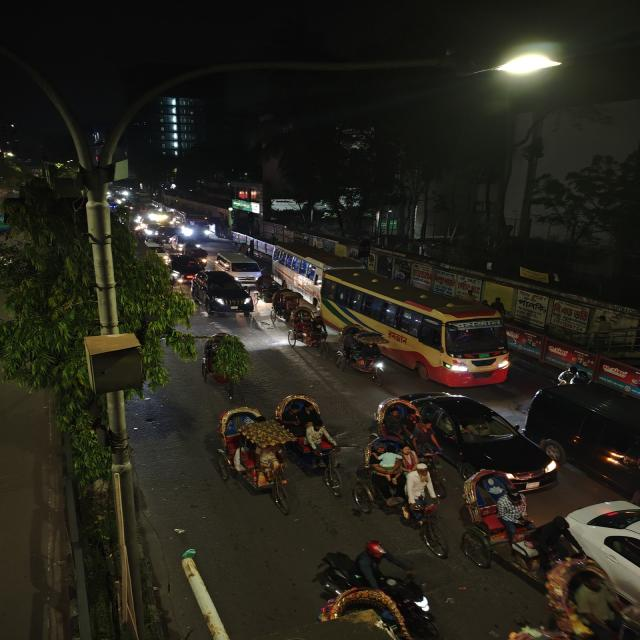bus: (323, 269, 513, 385), (270, 241, 360, 297), (171, 210, 215, 240)
car: (397, 389, 559, 492), (551, 496, 640, 640), (526, 383, 640, 475), (190, 272, 256, 321), (214, 251, 264, 281), (162, 254, 203, 283), (154, 225, 182, 243)
rickshaw: (454, 470, 550, 574), (209, 404, 291, 512), (274, 393, 345, 501), (334, 324, 389, 382), (278, 305, 327, 352), (268, 287, 304, 321)
